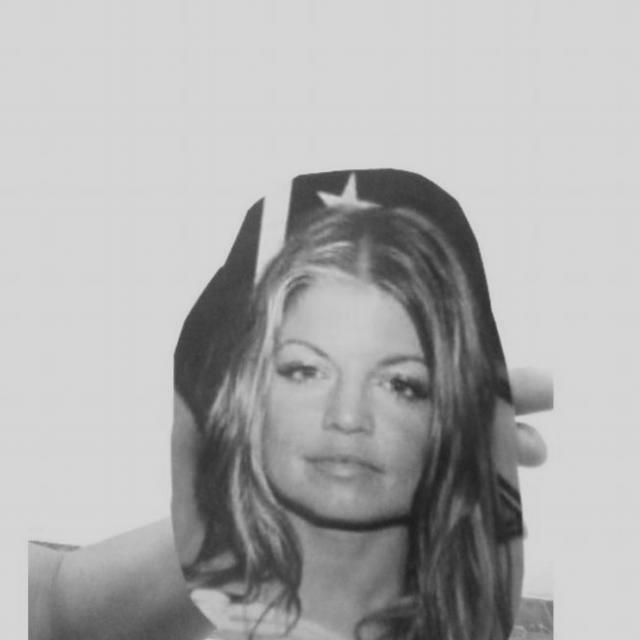fake: (168, 162, 554, 640)
